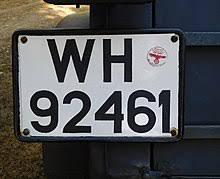1: (158, 89, 172, 133)
2: (61, 89, 94, 135)
4: (95, 90, 124, 134)
6: (125, 89, 158, 134)
9: (29, 90, 60, 133)
H: (100, 36, 134, 85)
W: (44, 38, 97, 85)
